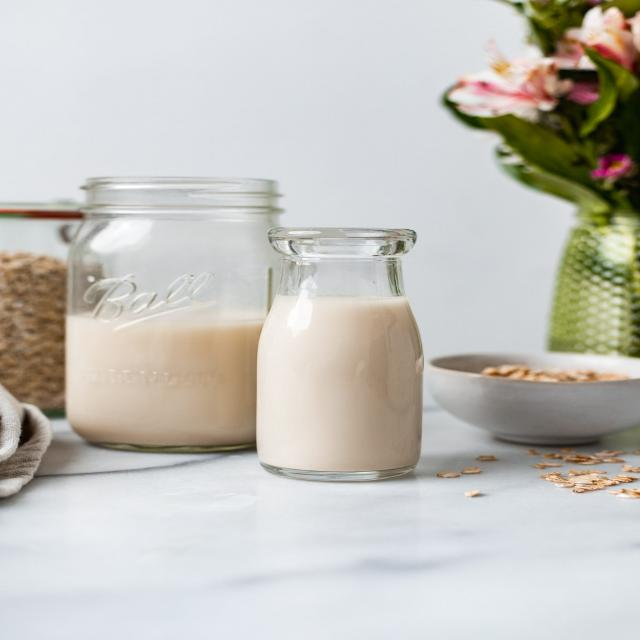Milk carton/jug: (54, 310, 330, 454), (258, 289, 427, 481)
